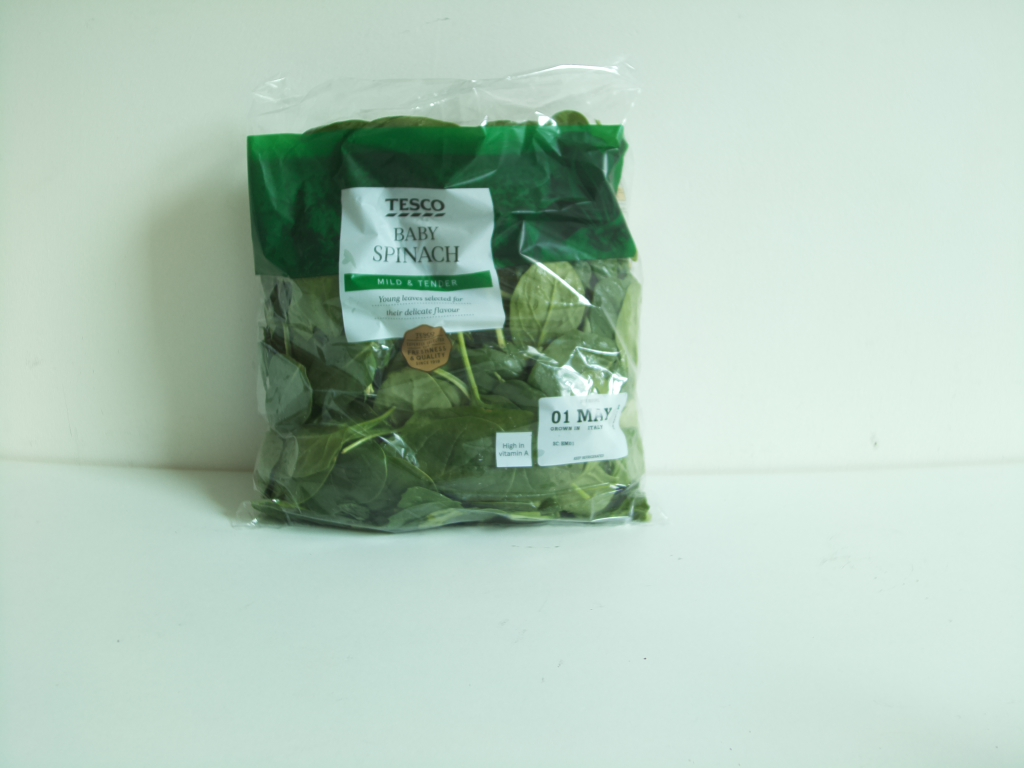salad: (247, 61, 670, 528)
